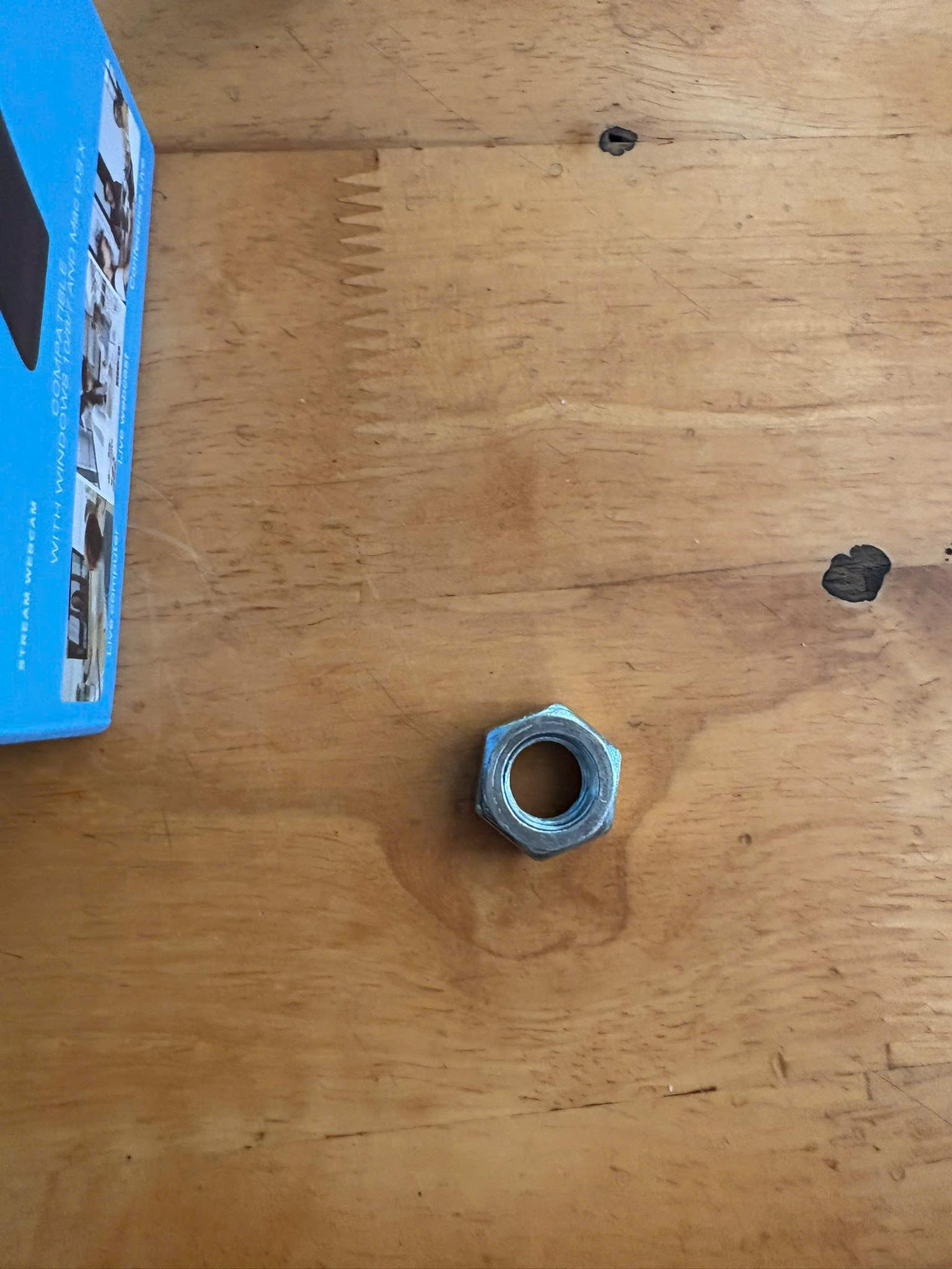nut: (446, 675, 643, 865)
